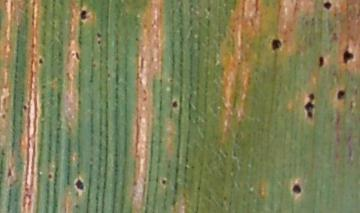tarspot: (303, 92, 316, 119), (341, 50, 354, 65), (73, 177, 86, 192), (271, 38, 282, 51), (291, 183, 302, 195), (79, 9, 88, 22), (336, 89, 346, 100), (317, 55, 325, 68), (322, 1, 332, 11), (5, 167, 13, 177), (74, 50, 81, 61), (46, 172, 54, 180), (94, 31, 102, 39), (161, 178, 168, 186), (37, 57, 44, 65), (171, 100, 178, 107), (95, 40, 103, 46), (1, 113, 7, 121), (22, 104, 28, 111), (1, 150, 6, 158)
